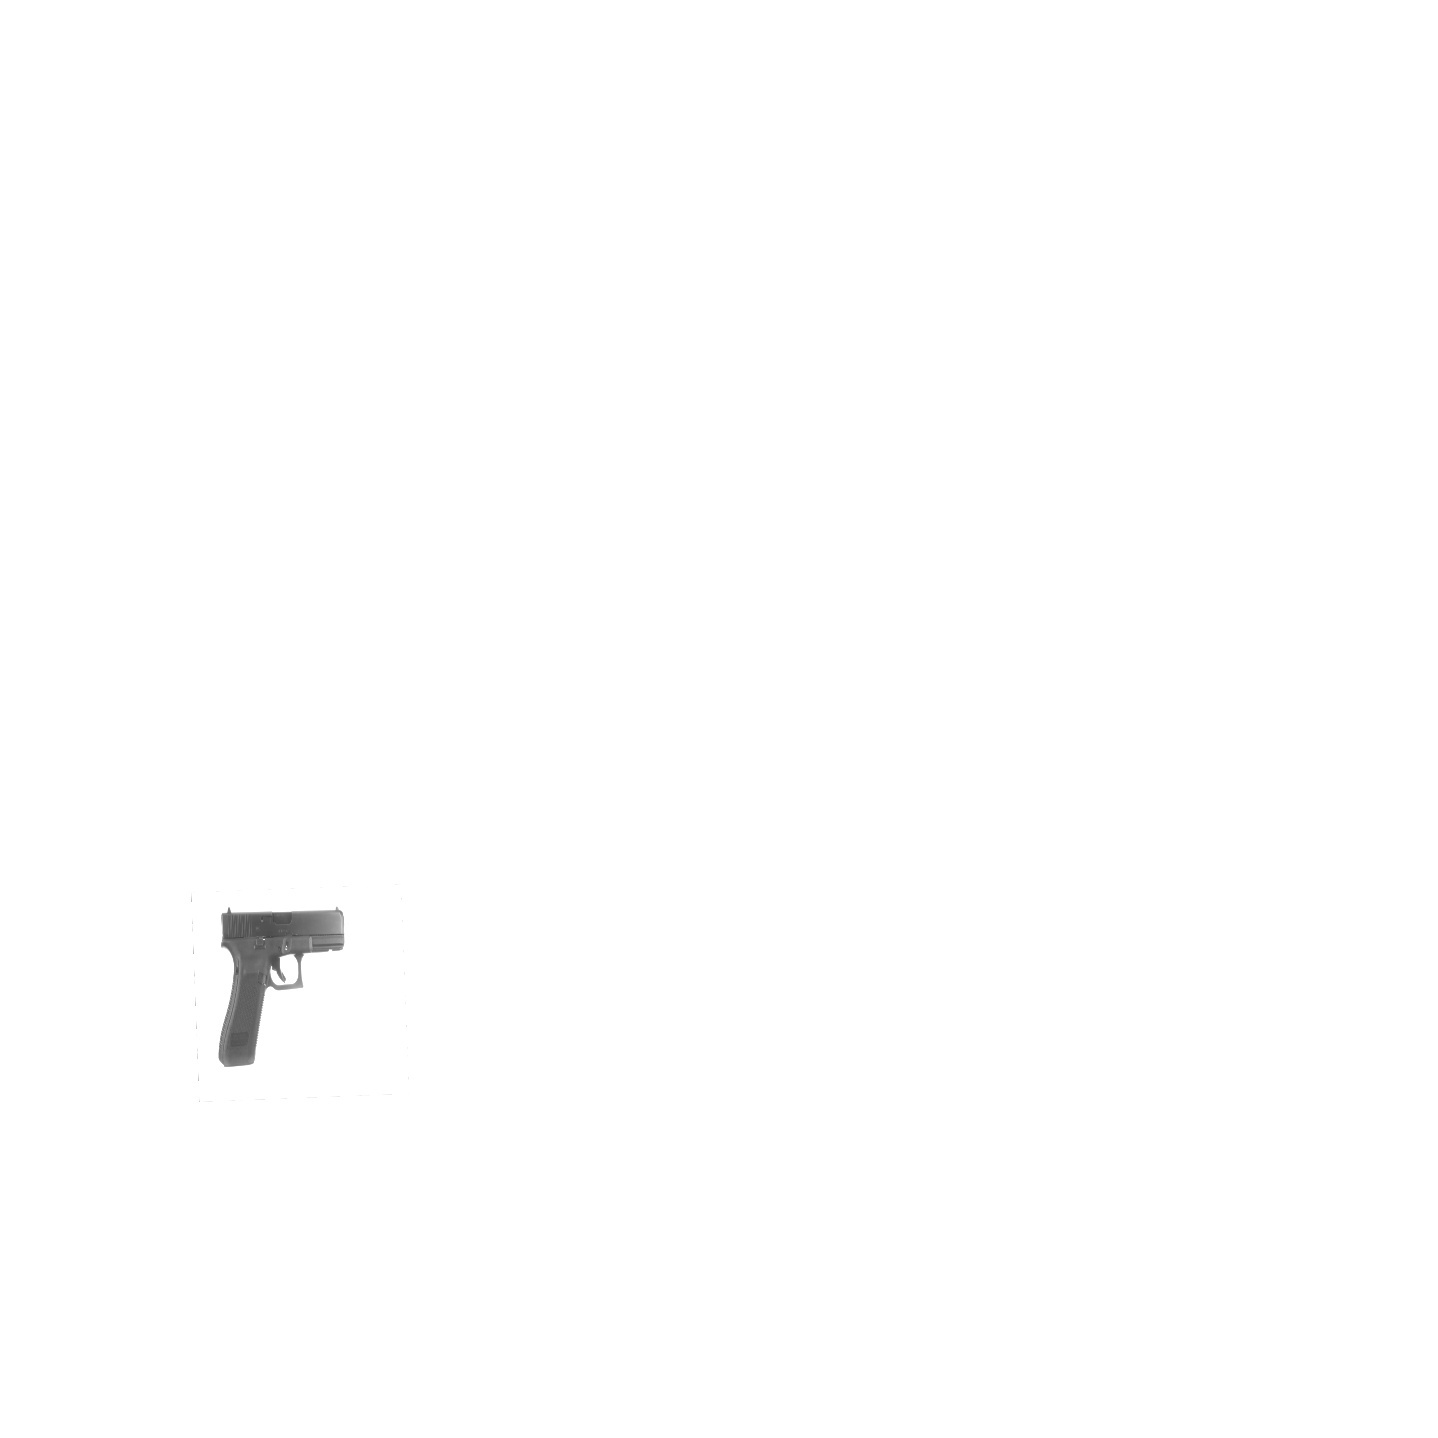gun: (219, 907, 345, 1069)
